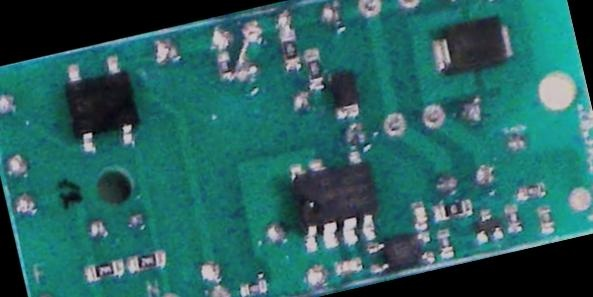chip-capacitor: (330, 254, 363, 276), (409, 198, 430, 231)
chip-resistor: (123, 246, 168, 275), (430, 196, 474, 223), (81, 257, 124, 284), (301, 48, 324, 88), (511, 180, 546, 203), (432, 225, 455, 259), (277, 30, 300, 64), (534, 202, 557, 234), (501, 202, 523, 235), (235, 276, 269, 297), (215, 50, 234, 79)
diode: (427, 13, 517, 80), (324, 66, 362, 119)
ic: (283, 145, 386, 254), (54, 49, 145, 157), (362, 226, 437, 277)
transistor: (468, 203, 505, 244)
